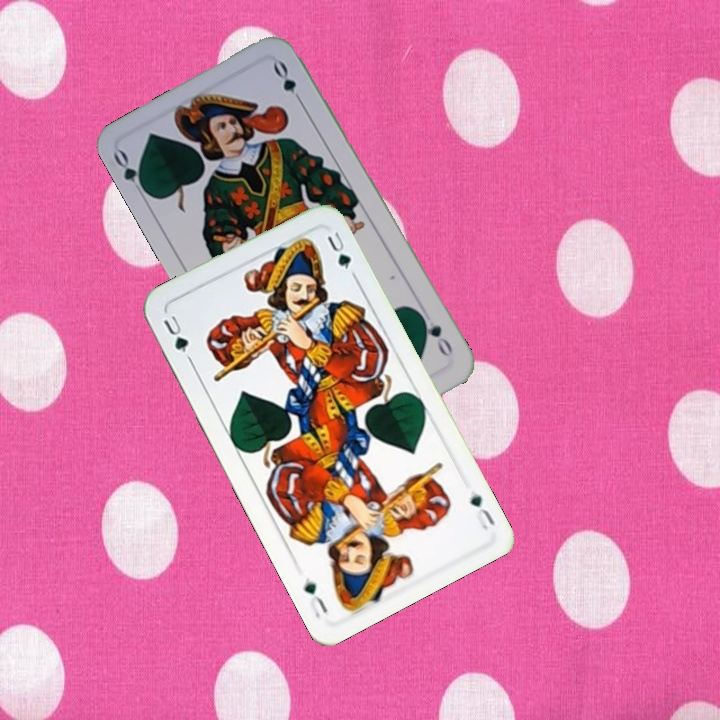GO: (109, 146, 152, 201), (416, 310, 456, 360)
GU: (159, 311, 191, 356), (466, 488, 498, 533)
